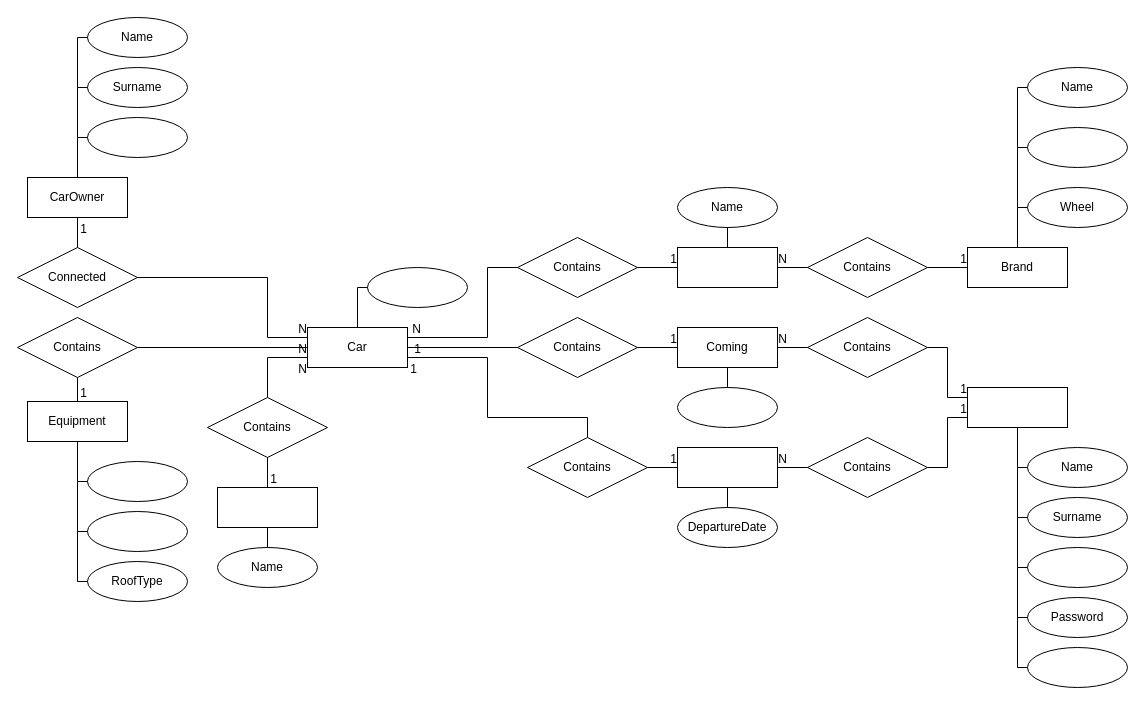
Some shapes in this 1145 by 705 pixel diagram are drawn without their labels. The centre of each missing label's shape, as x and y in pixels:
Category: point 137,481
Color: point 267,507
ComingDate: point 727,407
Departure: point 727,467
Email: point 137,137
Gear: point 137,531
Login: point 1077,567
ManufactCountry: point 1077,147
Model: point 727,267
SerialNumber: point 417,287
User: point 1017,407
UserType: point 1077,667
